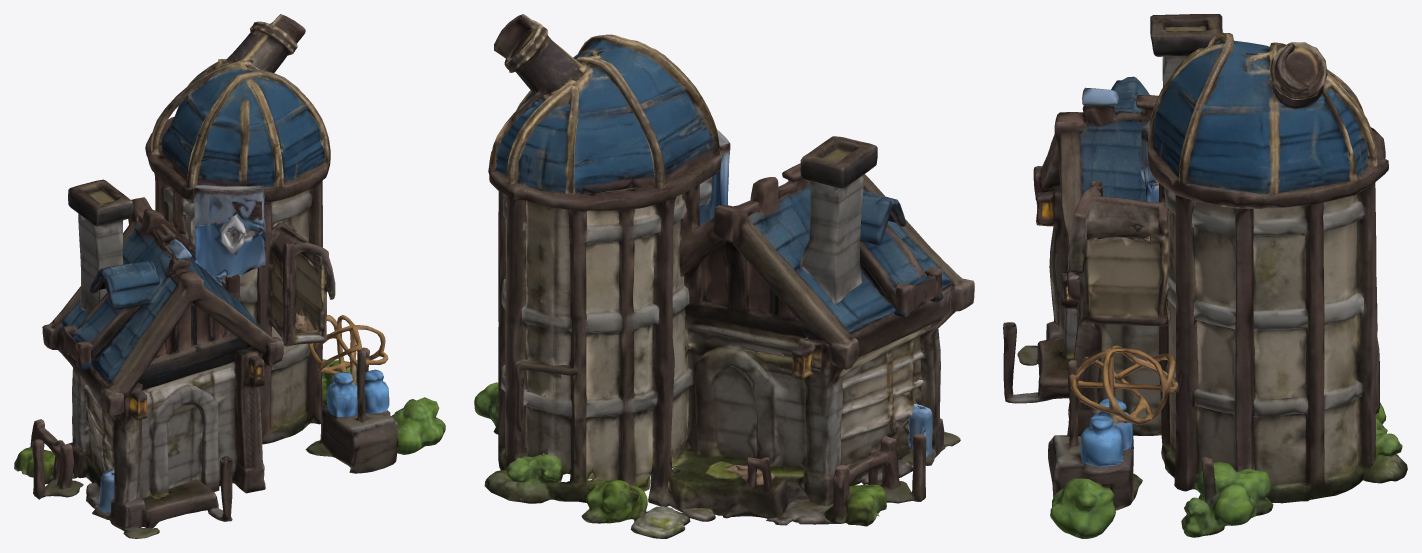
The model's file is research_tower.glb.
3 views of the same model, side by side, from view 1: azimuth 30°, elevation 25°; view 2: azimuth 150°, elevation 25°; view 3: azimuth 270°, elevation 25° (orthographic). The views are drawn at different scales.
Parts seen in each view (by area): view 1: research_tower_s7_fit; view 2: research_tower_s7_fit; view 3: research_tower_s7_fit.
Boxes of the visible parts, <box> form: research_tower_s7_fit: <box>14,14,445,538</box>; research_tower_s7_fit: <box>474,14,974,538</box>; research_tower_s7_fit: <box>1003,14,1407,538</box>.
Bounding box in the file's own units: 4.34 × 4.32 × 3.41.
Materials: 1 (1 with a texture image).
